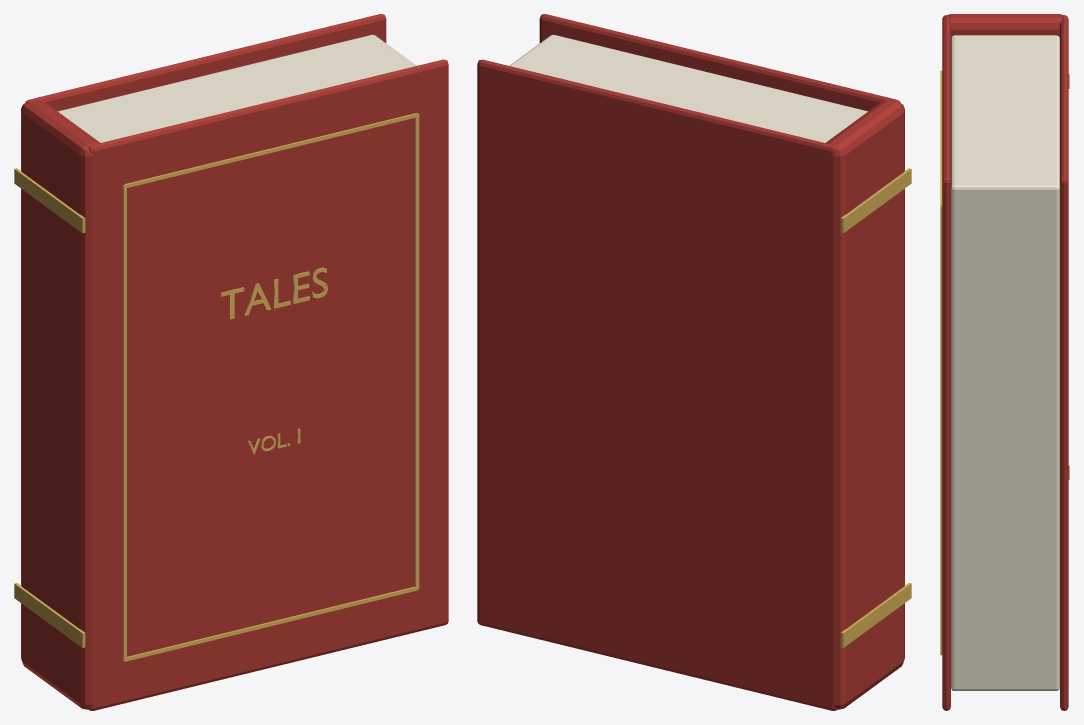
File: book_red_tales.glb
3 views of the same model, side by side, from view 1: azimuth 30°, elevation 25°; view 2: azimuth 150°, elevation 25°; view 3: azimuth 270°, elevation 25° (orthographic). The views are drawn at different scales.
Parts seen in each view (by area): view 1: TALES front cover, TALES rounded spine, TALES page block, TALES back cover, Gilt vertical cover border.001, Gilt vertical cover border, Gilt horizontal cover border.001, Gilt horizontal cover border, Book title, Gold spine band.001, Gold spine band; view 2: TALES back cover, TALES rounded spine, TALES page block, TALES front cover, Gold spine band.001, Gold spine band; view 3: TALES page block, TALES back cover, TALES front cover, TALES rounded spine, Gilt vertical cover border.001, Gilt horizontal cover border.001.
Boxes of the visible parts, x1,y1,x2,y2 form: TALES front cover: (88,59,448,710); TALES rounded spine: (21,100,100,709); TALES page block: (58,34,416,142); TALES back cover: (25,14,386,111); Gilt vertical cover border.001: (414,113,419,589); Gilt vertical cover border: (122,185,126,661); Gilt horizontal cover border.001: (124,113,417,188); Gilt horizontal cover border: (125,586,417,661); Book title: (220,267,328,319); Gold spine band.001: (14,168,85,233); Gold spine band: (14,583,85,647); TALES back cover: (477,59,837,710); TALES rounded spine: (825,100,904,709); TALES page block: (509,34,867,142); TALES front cover: (539,14,900,111); Gold spine band.001: (840,168,911,233); Gold spine band: (840,583,911,647); TALES page block: (951,35,1059,690); TALES back cover: (1060,15,1068,710); TALES front cover: (942,15,950,710); TALES rounded spine: (947,14,1063,37); Gilt vertical cover border.001: (940,206,942,655); Gilt horizontal cover border.001: (940,70,942,205).
Size of the model in its own units: 0.1842 by 0.27 by 0.0594.
